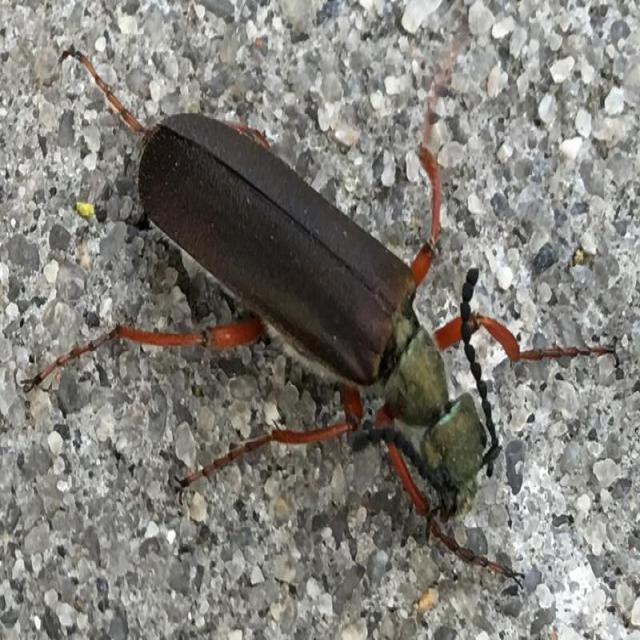BlisterBeetle-Adult-: (57, 22, 562, 584)
